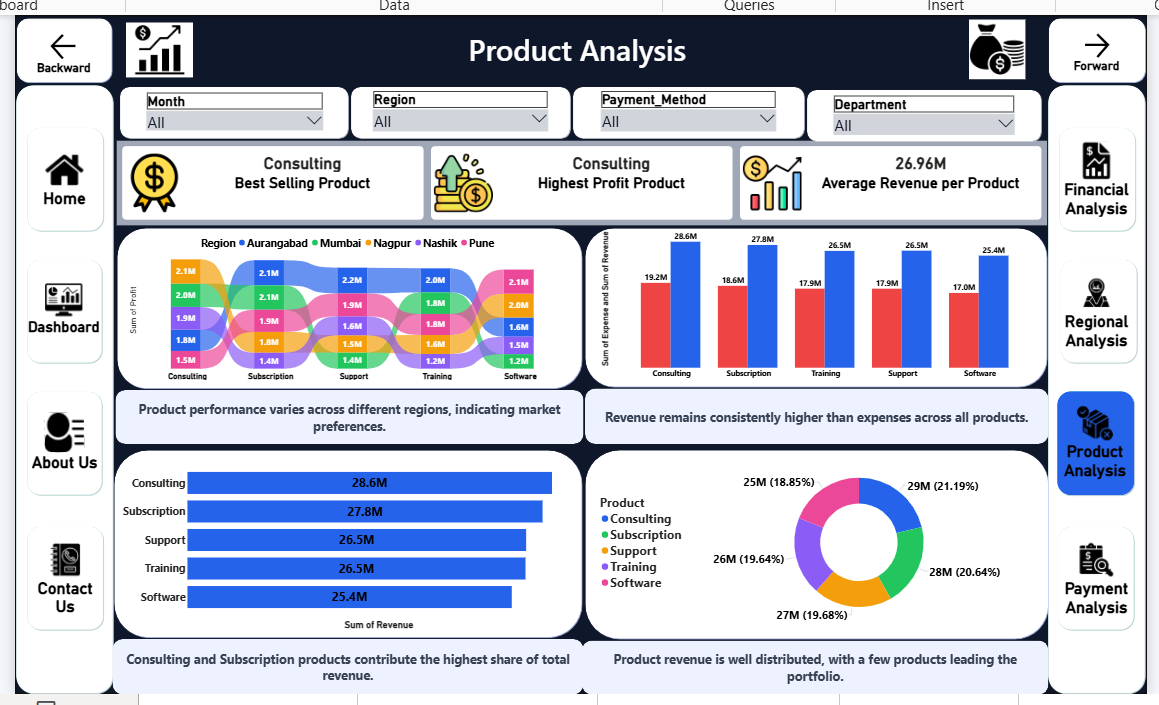

The page's visual inventory and layout, read from the dashboard file:
{"tool":"powerbi","page":{"name":"Product Analysis Page","canvas":[5000,3000],"ordinal":4},"visuals":[{"type":"shape","box":[437.7,5.9,4122.7,295.7],"z":0},{"type":"shape","box":[0,304.9,437.4,2697.4],"z":1000},{"type":"shape","box":[4559.8,304.9,437.4,2697.4],"z":2000},{"type":"shape","box":[0,6,435.4,298.2],"z":3000},{"type":"shape","box":[4557.1,6,441.4,298.2],"z":4000},{"type":"shape","box":[430.8,2757.1,2081,245.2],"z":5000},{"type":"image","box":[490.9,35.5,295.7,242.5],"z":6000},{"type":"cardVisual","fields":{"Data":["Finance.Best Selling Product","Finance.Highest Profit Product","Finance.Average Revenue per Product"]},"box":[444,550.1,4122.3,384.4],"z":7000},{"type":"shape","box":[444,1656.9,2067.8,238.6],"z":8000},{"type":"shape","box":[430.8,1915.4,2081,841.7],"z":9000},{"type":"shape","box":[444,934.5,2067.8,722.4],"z":10000},{"type":"shape","box":[2511.8,934.5,2054.5,715.8],"z":11000},{"type":"ribbonChart","fields":{"Y":["Sum(Finance.Profit)"],"Category":["Finance.Product"],"Series":["Finance.Region"]},"box":[490.4,967.6,1968.4,649.5],"z":12000},{"type":"shape","box":[2511.8,1915.4,2061.2,848.3],"z":13000},{"type":"shape","box":[2505.2,2763.7,2061.2,238.6],"z":14000},{"type":"donutChart","fields":{"Category":["Finance.Product"],"Y":["Sum(Finance.Revenue)"]},"box":[2578.1,1955.1,1928.6,748.9],"z":15000},{"type":"shape","box":[2518.5,1650.3,2047.9,245.2],"z":16000},{"type":"clusteredBarChart","fields":{"Y":["Sum(Finance.Revenue)"],"Category":["Finance.Product"]},"box":[470.6,1955.1,1988.3,768.8],"z":17000},{"type":"clusteredColumnChart","fields":{"Y":["Sum(Finance.Expense)","Sum(Finance.Revenue)"],"Category":["Finance.Product"]},"box":[2578.1,934.5,1961.8,682.6],"z":18000},{"type":"shape","box":[457.3,311.5,1020.6,238.6],"z":19000},{"type":"shape","box":[1477.9,311.5,980.9,238.6],"z":20000},{"type":"shape","box":[3492.7,324.7,1047.2,238.6],"z":21000},{"type":"slicer","fields":{"Values":["Finance_dataset.Date.Variation.Date Hierarchy.Month"]},"box":[570,338,801.9,172.3],"z":22000},{"type":"slicer","fields":{"Values":["Finance_dataset.Department"]},"box":[3605.4,351.3,821.8,178.9],"z":23000},{"type":"image","box":[4212.4,22,249.5,264.2],"z":24000},{"type":"textbox","box":[1696.7,59.6,1610.5,198.8],"z":25000},{"type":"slicer","fields":{"Values":["Finance.Region"]},"box":[1570.7,331.4,795.3,185.6],"z":26000},{"type":"shape","box":[2458.8,311.5,1033.9,238.6],"z":27000},{"type":"slicer","fields":{"Values":["Finance.Payment_Method"]},"box":[2578.1,331.4,795.3,198.8],"z":28000},{"type":"actionButton","box":[33.1,19.9,364.5,245.2],"z":29000},{"type":"actionButton","box":[4606.1,19.9,344.6,238.6],"z":30000},{"type":"shape","box":[46.4,1073.7,344.6,470.6],"z":31000},{"type":"shape","box":[46.4,490.4,351.3,470.6],"z":32000},{"type":"actionButton","box":[46.4,490.4,344.6,470.6],"z":33000},{"type":"shape","box":[46.4,2253.4,351.3,470.6],"z":34000},{"type":"shape","box":[46.4,1656.9,344.6,470.6],"z":35000},{"type":"actionButton","box":[46.4,1060.4,338,470.6],"z":36000},{"type":"actionButton","box":[39.8,1650.3,357.9,470.6],"z":37000},{"type":"actionButton","box":[53,2253.4,338,470.6],"z":38000},{"type":"shape","box":[4606.1,490.4,351.3,470.6],"z":39000},{"type":"shape","box":[4612.8,1073.7,351.3,470.6],"z":40000},{"type":"shape","box":[4599.5,1656.9,351.3,470.6],"z":41000},{"type":"shape","box":[4599.5,2253.4,351.3,470.6],"z":42000},{"type":"actionButton","box":[4606.1,490.4,344.6,470.6],"z":43000},{"type":"actionButton","box":[4606.1,1073.7,344.6,470.6],"z":44000},{"type":"actionButton","box":[4599.5,1650.3,344.6,470.6],"z":45000},{"type":"actionButton","box":[4606.1,2253.4,344.6,470.6],"z":46000}]}

Visuals, with their boxes on the page's 5000x3000 design canvas (x1, y1, x2, y2). These are canvas units, not pixel positions in the 1159x705 screenshot, which may show the page scaled, cropped or inside an application window:
shape: [x1=438, y1=6, x2=4560, y2=302]
shape: [x1=0, y1=305, x2=437, y2=3002]
shape: [x1=4560, y1=305, x2=4997, y2=3002]
shape: [x1=0, y1=6, x2=435, y2=304]
shape: [x1=4557, y1=6, x2=4998, y2=304]
shape: [x1=431, y1=2757, x2=2512, y2=3002]
image: [x1=491, y1=36, x2=787, y2=278]
cardVisual - Finance.Best Selling Product x Finance.Highest Profit Product: [x1=444, y1=550, x2=4566, y2=934]
shape: [x1=444, y1=1657, x2=2512, y2=1896]
shape: [x1=431, y1=1915, x2=2512, y2=2757]
shape: [x1=444, y1=934, x2=2512, y2=1657]
shape: [x1=2512, y1=934, x2=4566, y2=1650]
ribbonChart - Sum(Finance.Profit) x Finance.Product: [x1=490, y1=968, x2=2459, y2=1617]
shape: [x1=2512, y1=1915, x2=4573, y2=2764]
shape: [x1=2505, y1=2764, x2=4566, y2=3002]
donutChart - Finance.Product x Sum(Finance.Revenue): [x1=2578, y1=1955, x2=4507, y2=2704]
shape: [x1=2518, y1=1650, x2=4566, y2=1896]
clusteredBarChart - Sum(Finance.Revenue) x Finance.Product: [x1=471, y1=1955, x2=2459, y2=2724]
clusteredColumnChart - Sum(Finance.Expense) x Sum(Finance.Revenue): [x1=2578, y1=934, x2=4540, y2=1617]
shape: [x1=457, y1=312, x2=1478, y2=550]
shape: [x1=1478, y1=312, x2=2459, y2=550]
shape: [x1=3493, y1=325, x2=4540, y2=563]
slicer - Finance_dataset.Date.Variation.Date Hierarchy.Month: [x1=570, y1=338, x2=1372, y2=510]
slicer - Finance_dataset.Department: [x1=3605, y1=351, x2=4427, y2=530]
image: [x1=4212, y1=22, x2=4462, y2=286]
textbox: [x1=1697, y1=60, x2=3307, y2=258]
slicer - Finance.Region: [x1=1571, y1=331, x2=2366, y2=517]
shape: [x1=2459, y1=312, x2=3493, y2=550]
slicer - Finance.Payment_Method: [x1=2578, y1=331, x2=3373, y2=530]
actionButton: [x1=33, y1=20, x2=398, y2=265]
actionButton: [x1=4606, y1=20, x2=4951, y2=258]
shape: [x1=46, y1=1074, x2=391, y2=1544]
shape: [x1=46, y1=490, x2=398, y2=961]
actionButton: [x1=46, y1=490, x2=391, y2=961]
shape: [x1=46, y1=2253, x2=398, y2=2724]
shape: [x1=46, y1=1657, x2=391, y2=2128]
actionButton: [x1=46, y1=1060, x2=384, y2=1531]
actionButton: [x1=40, y1=1650, x2=398, y2=2121]
actionButton: [x1=53, y1=2253, x2=391, y2=2724]
shape: [x1=4606, y1=490, x2=4957, y2=961]
shape: [x1=4613, y1=1074, x2=4964, y2=1544]
shape: [x1=4600, y1=1657, x2=4951, y2=2128]
shape: [x1=4600, y1=2253, x2=4951, y2=2724]
actionButton: [x1=4606, y1=490, x2=4951, y2=961]
actionButton: [x1=4606, y1=1074, x2=4951, y2=1544]
actionButton: [x1=4600, y1=1650, x2=4944, y2=2121]
actionButton: [x1=4606, y1=2253, x2=4951, y2=2724]
